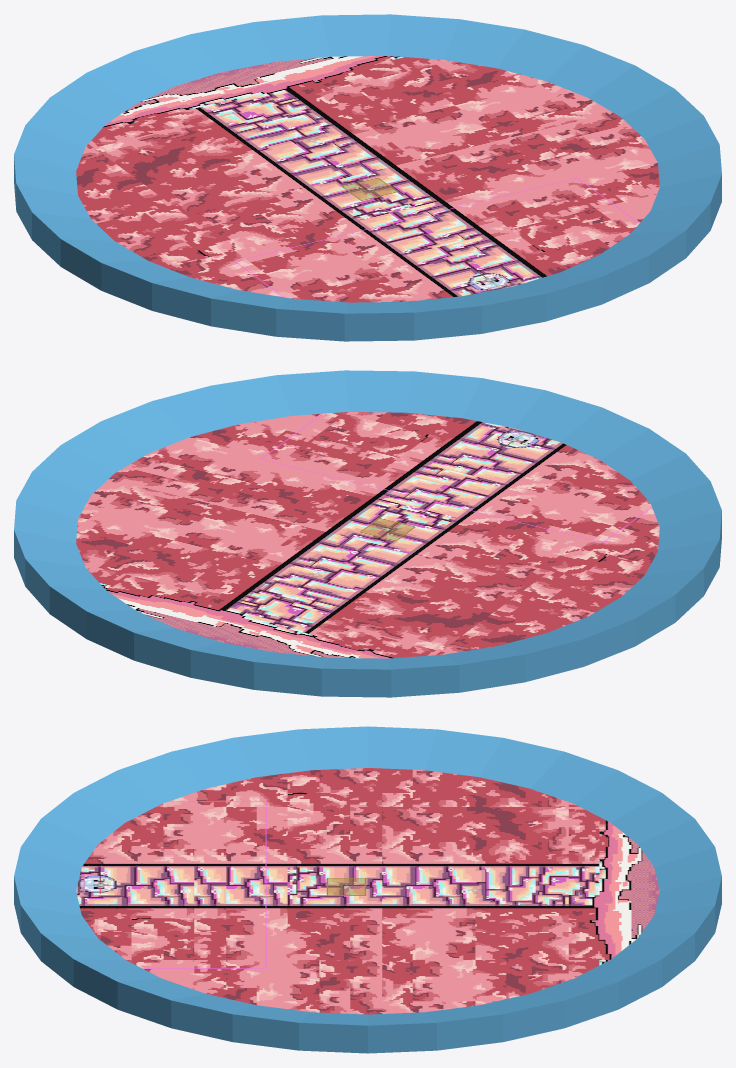
Rendered from aro_burbuja_escene0.glb.
3 views of the same model, one above another, from view 1: azimuth 30°, elevation 25°; view 2: azimuth 150°, elevation 25°; view 3: azimuth 270°, elevation 25° (orthographic).
Parts seen in each view (by area): view 1: Circle; view 2: Circle; view 3: Circle.
Part boxes in pixels (<box>): Circle: <box>14,14,721,341</box>; Circle: <box>14,370,721,697</box>; Circle: <box>14,726,721,1053</box>.
Bounding box in the file's own units: 2 × 0.0868 × 2.
2 materials, 1 textured.
